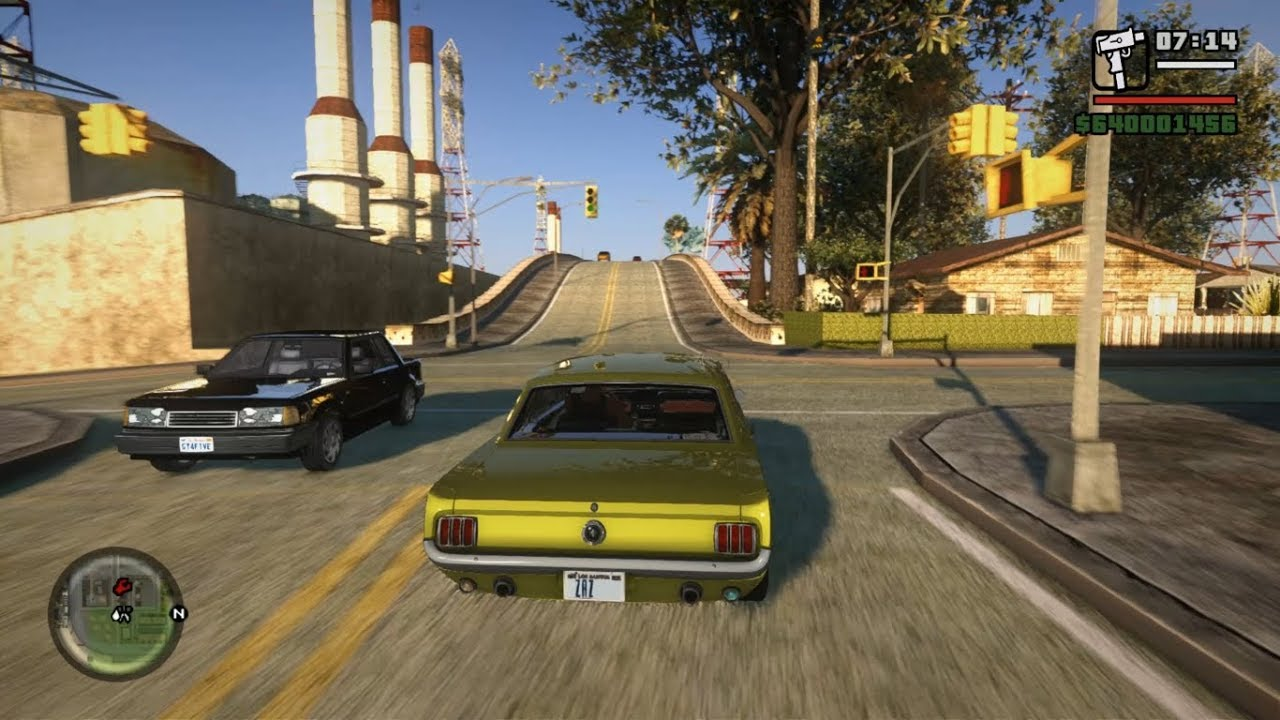car: (452, 353, 783, 627), (130, 328, 431, 467)
